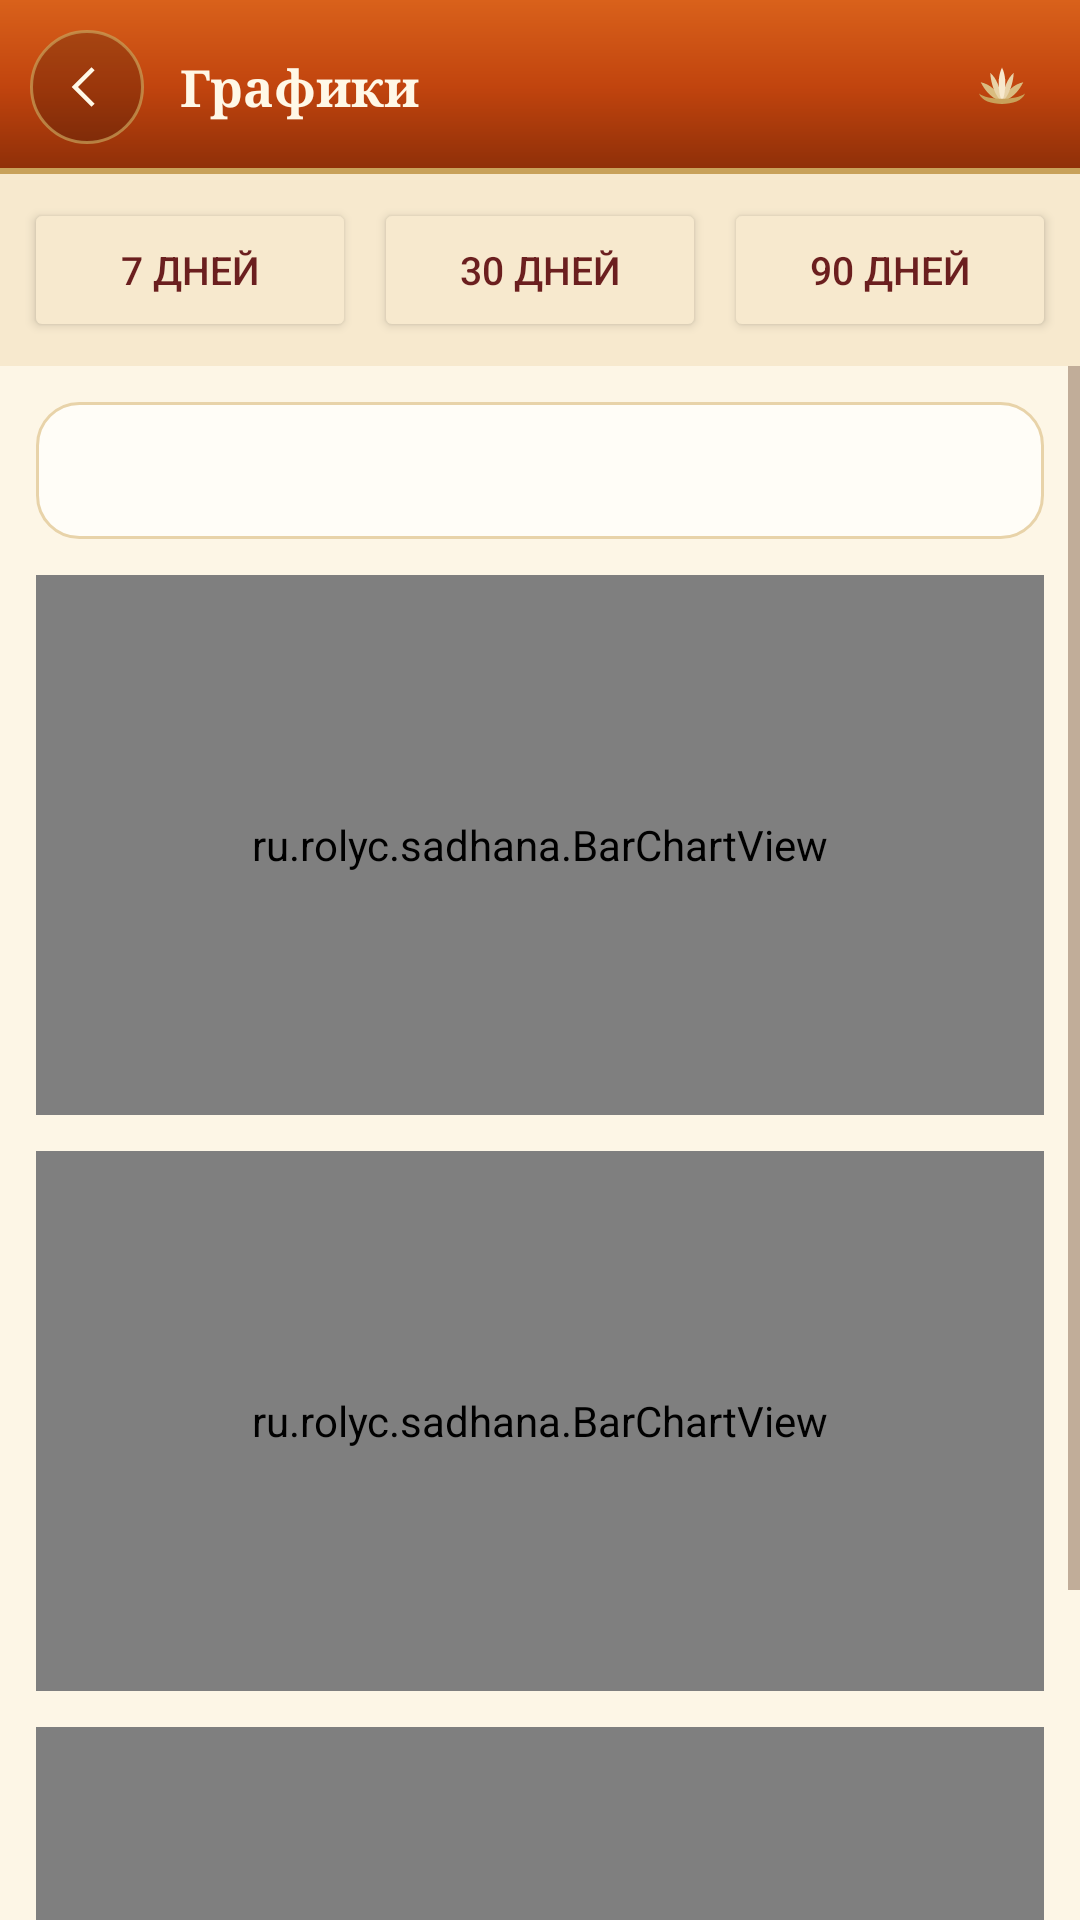

Named icons in this screenshot (1080px x 1920px) and their centers, [x,y]:
Лотос: [1002,87]
Назад: [87,87]
